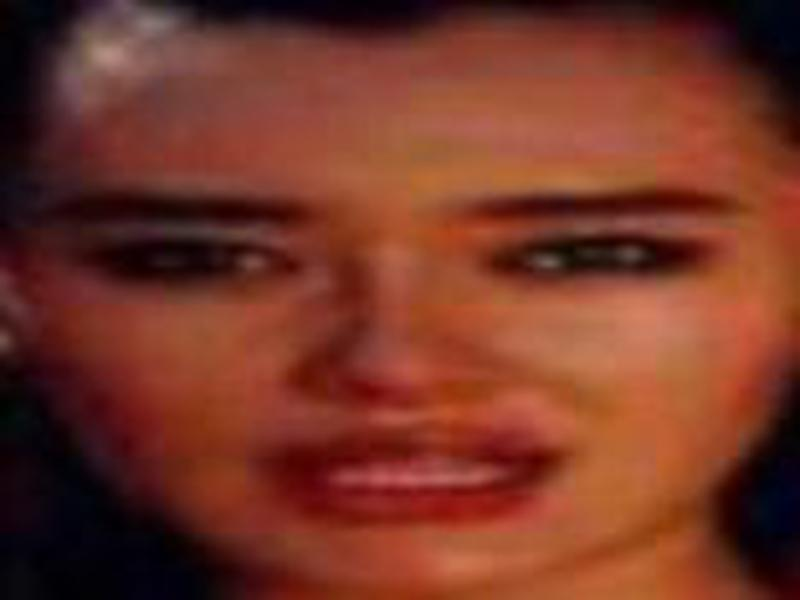without_mask: (30, 59, 777, 595)
